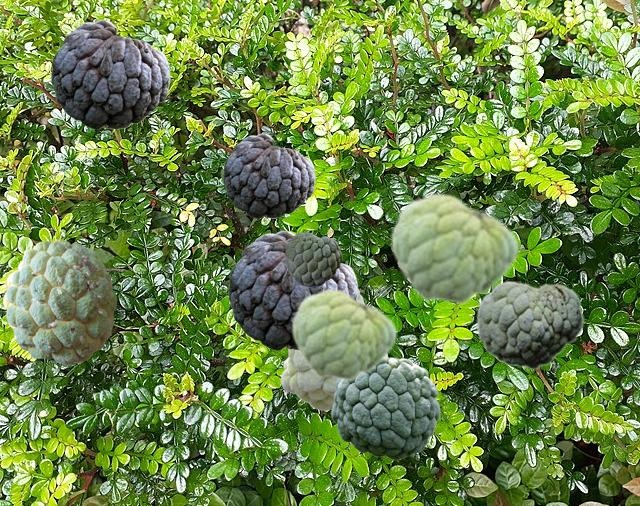atis: (228, 230, 357, 349), (389, 191, 518, 305), (3, 239, 115, 363), (51, 19, 169, 128), (331, 357, 439, 459), (290, 287, 396, 381), (476, 280, 583, 369), (223, 133, 314, 217), (280, 350, 335, 411), (285, 232, 341, 285), (358, 287, 364, 301)
